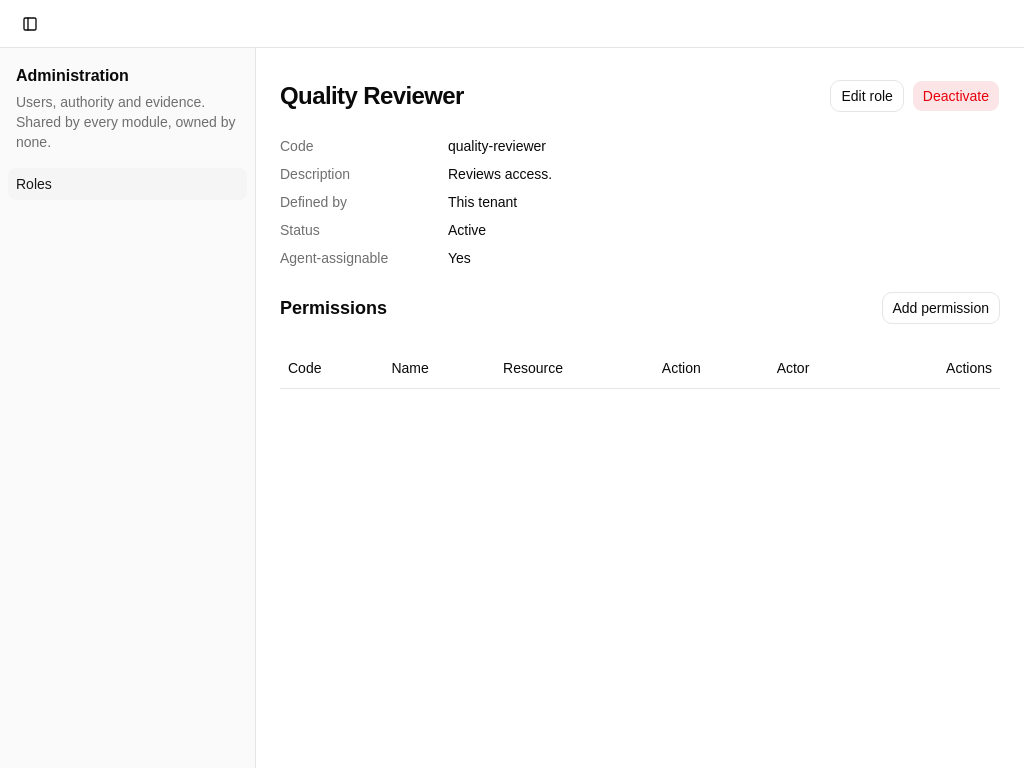
it: what the confirmation says › states that existing holders keep their access, and counts them
Expected: the table named "Permissions" is shown, [280, 348, 1000, 388]
Click the button "Deactivate": (956, 96) [912, 80, 1000, 112]
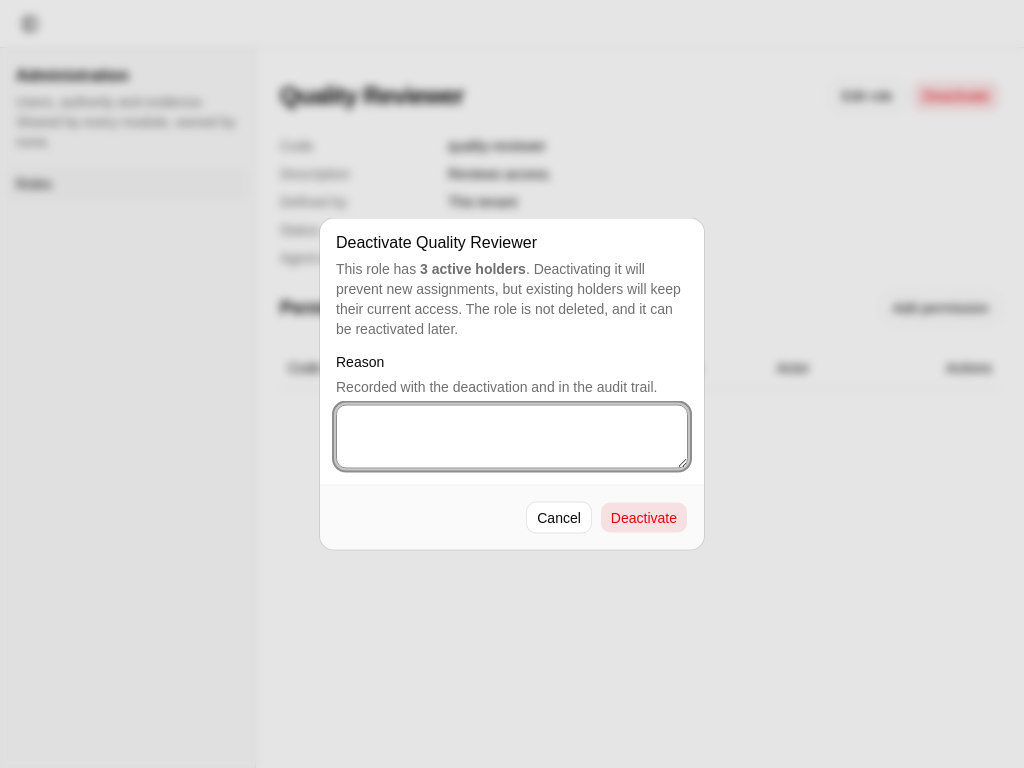
Expected: the dialog shows "3 active holders", [320, 218, 704, 550]
Expected: the dialog shows "keep their current access", [336, 260, 681, 336]
Expected: the dialog shows "prevent new assignments", [336, 260, 681, 336]
